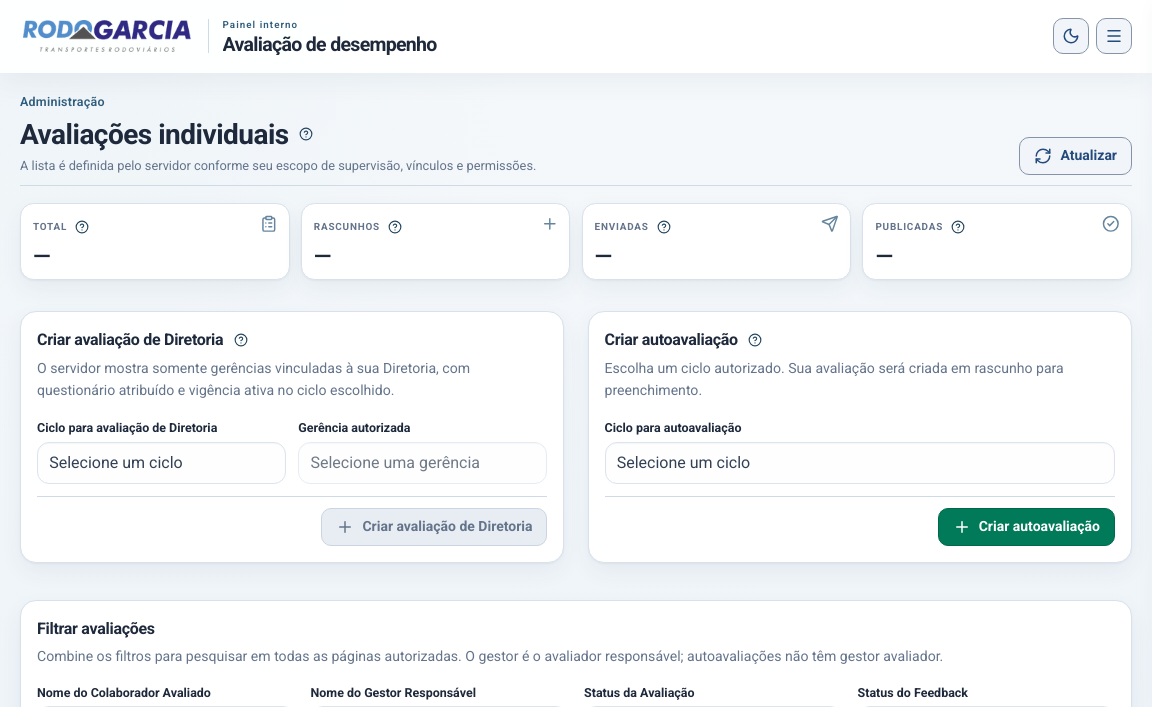
Test: App › DIRETORIA: remove a opção de AUTOAVALIACAO após criar e voltar pela navegação real
Expected: the dropdown labelled "Ciclo para avaliação de Diretoria" is shown, [37,442,286,484]
Select "Ciclo fictício dos perfis" in the dropdown labelled "Ciclo para autoavaliação" at x=860, y=463, box [604,442,1115,484]
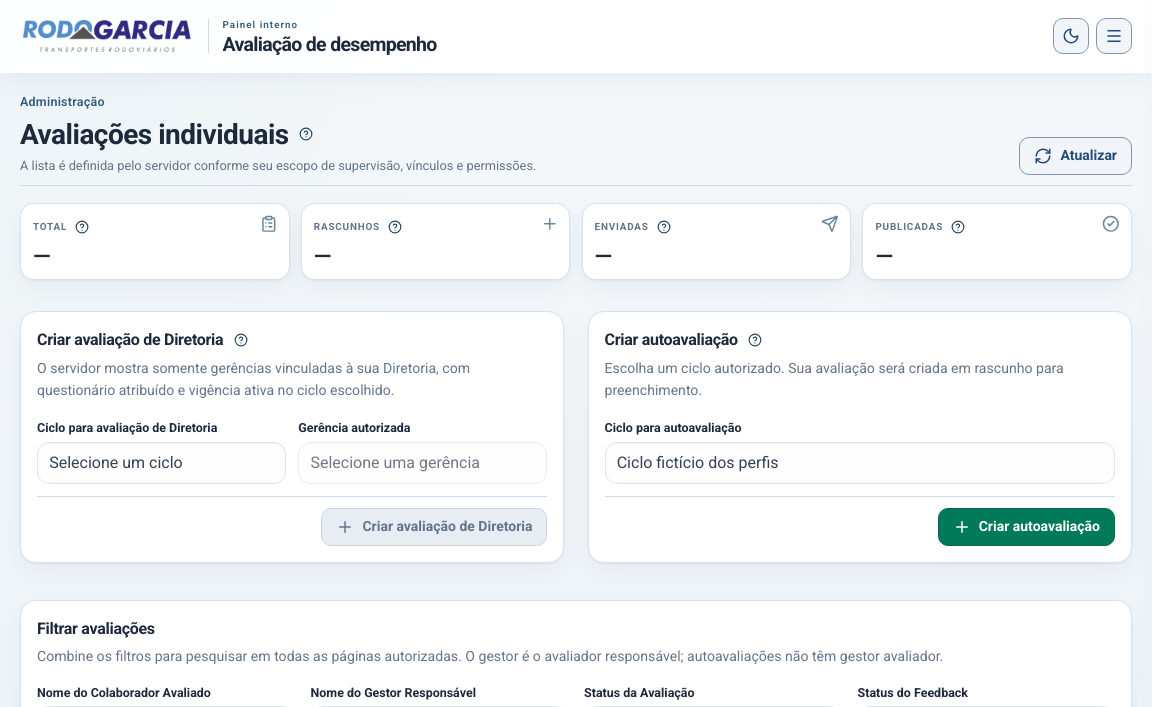
Click the button "Criar autoavaliação" at x=1026, y=527, box [938,508,1115,546]
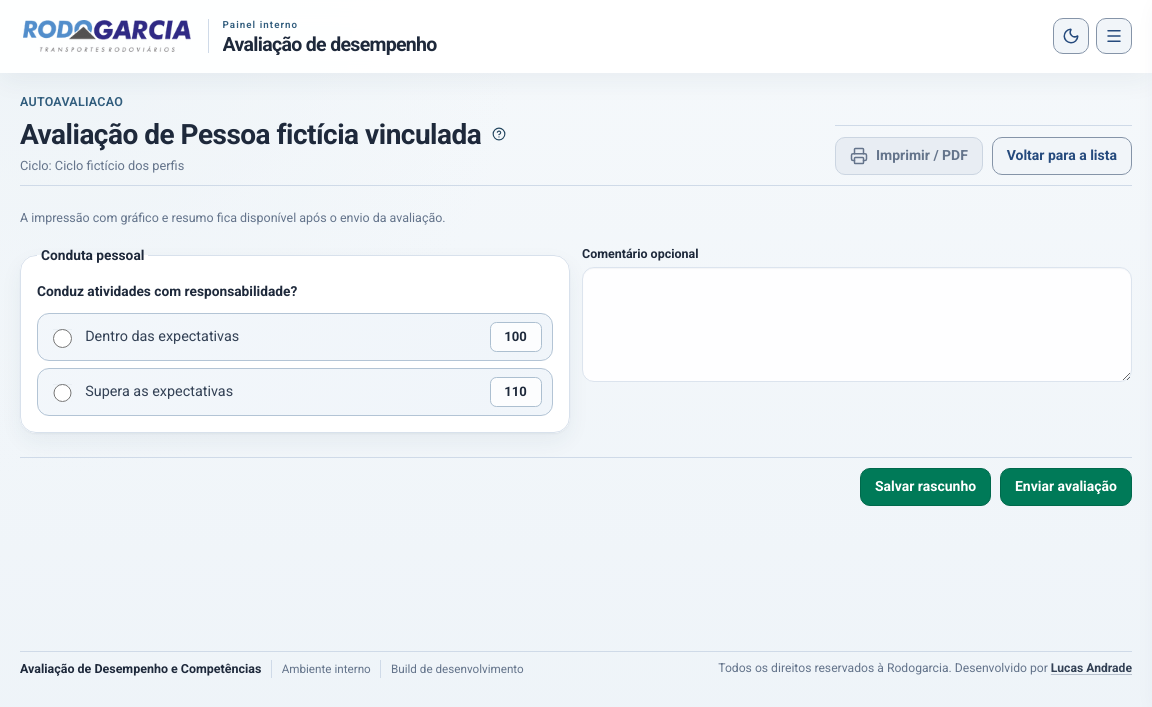
Click the button "Voltar para a lista" at x=1062, y=156, box [992,137,1132,175]
(page scrolled)
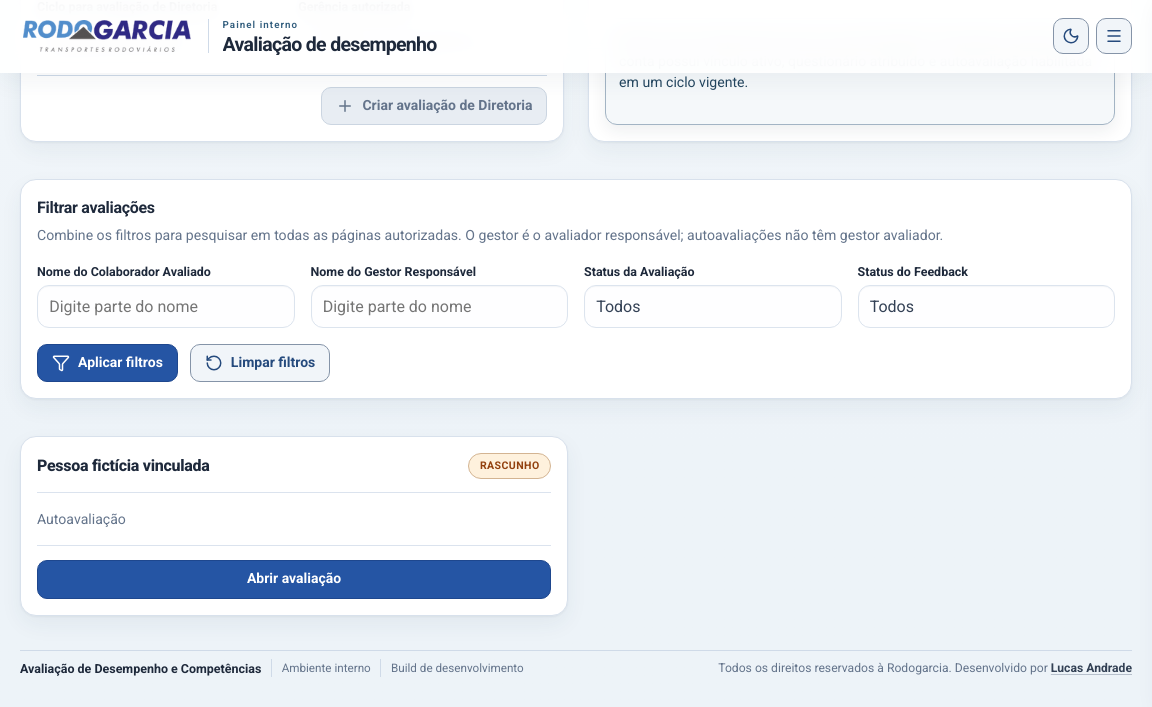
Expected: the dropdown labelled "Ciclo para avaliação de Diretoria" is enabled, [37,21,286,63]
Result: the button "Abrir avaliação" is shown at [37,560,551,599]
